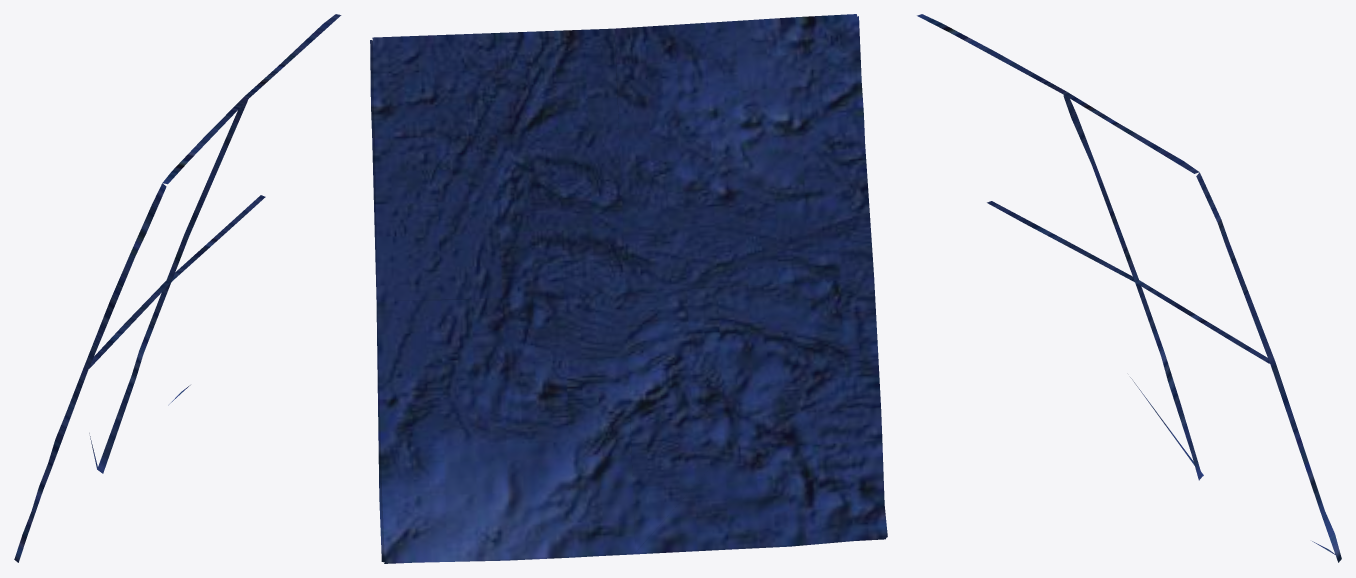
3 views of the same model, side by side, from view 1: azimuth 30°, elevation 25°; view 2: azimuth 150°, elevation 25°; view 3: azimuth 270°, elevation 25° (orthographic). The views are drawn at different scales.
Size of the model in its own units: 605911 by 594578 by 529937.
Materials: 1 (1 with a texture image).
